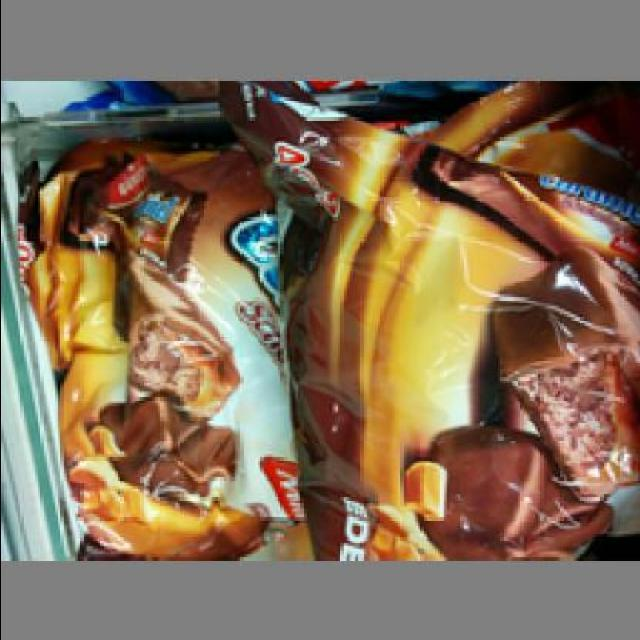Chocolate bar: (296, 143, 638, 557), (46, 146, 294, 557)
